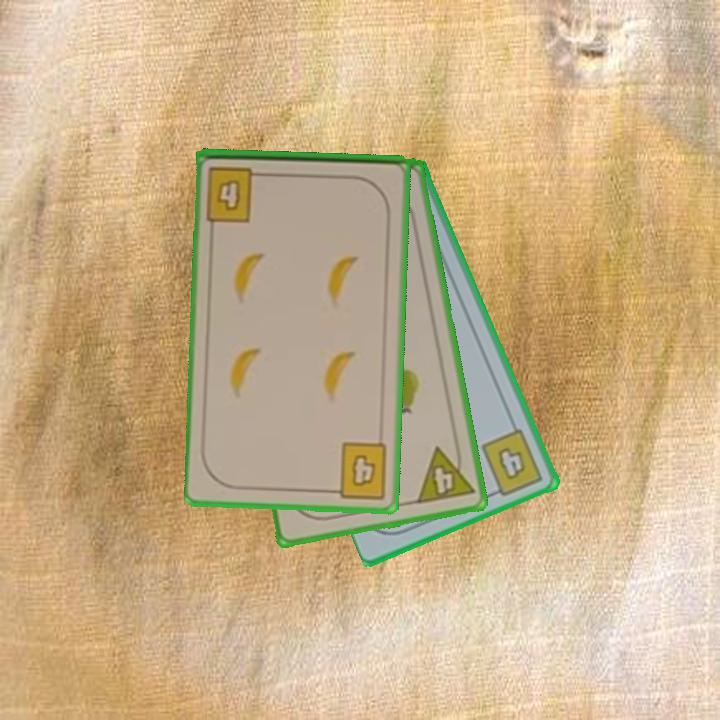4b: (477, 425, 546, 500), (203, 162, 269, 225), (325, 439, 391, 501)
4p: (412, 440, 477, 507)
